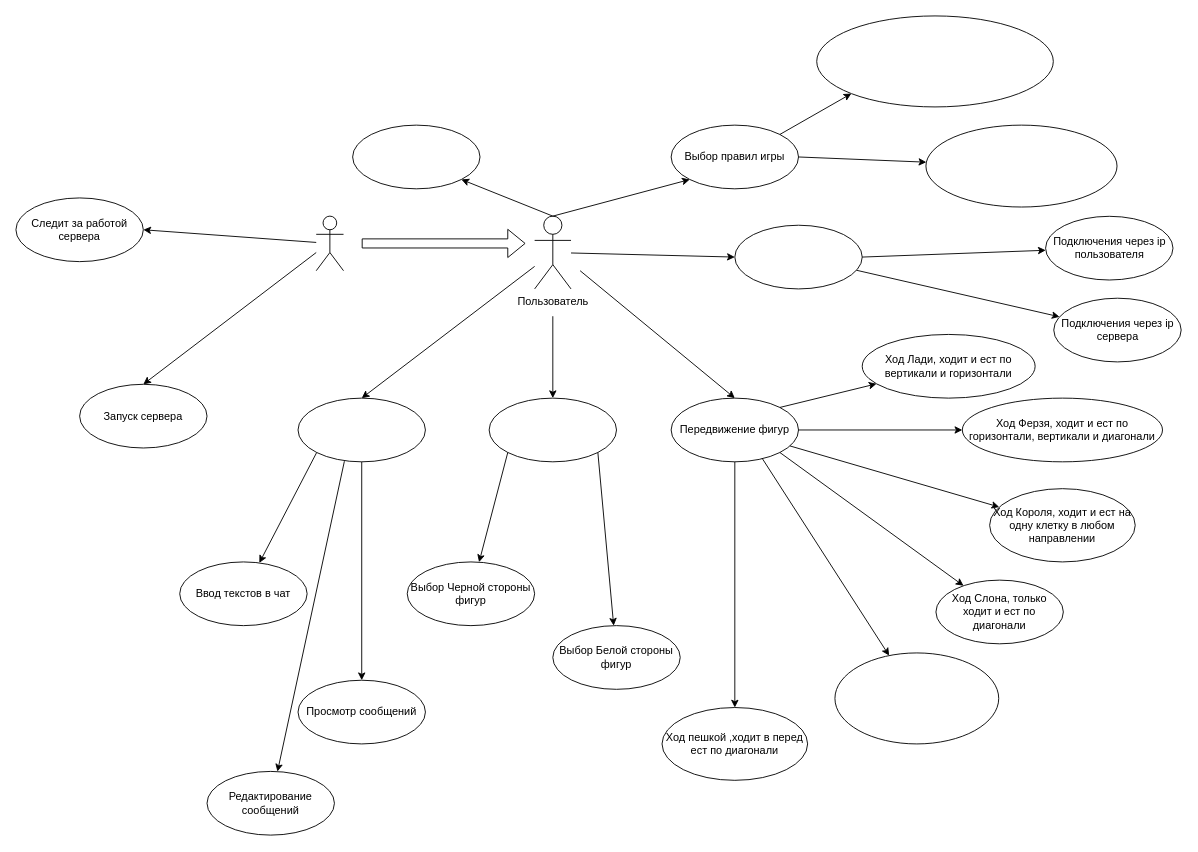
The diagram is 1198 pixels wide and 852 high, and some of its shapes have lost their labels. The box of each missing label's shape, as (x1, y1, x2, y2) in pixels:
Администратор: (315, 215, 344, 271)
Быстрая игра, включает игру на ограничение по времени: (925, 124, 1117, 207)
Выбор метода подключения: (734, 224, 862, 289)
Выбор сторон: (488, 397, 617, 462)
Конец игры по правилам шахмат: (352, 124, 480, 189)
Общение с соперником: (297, 397, 425, 462)
Обычная игра, представляет виде игры без ограничений по времени: (816, 15, 1053, 107)
Ход Конем ,ходит и ест буквой "Г": (834, 652, 999, 744)
